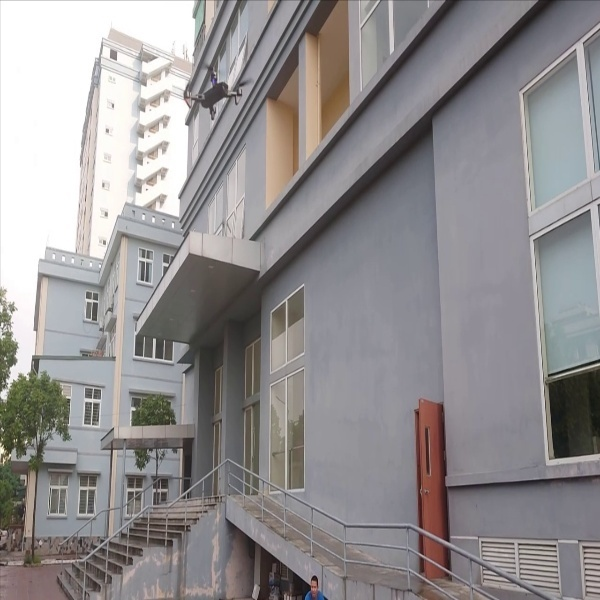drone: (180, 62, 259, 125)
